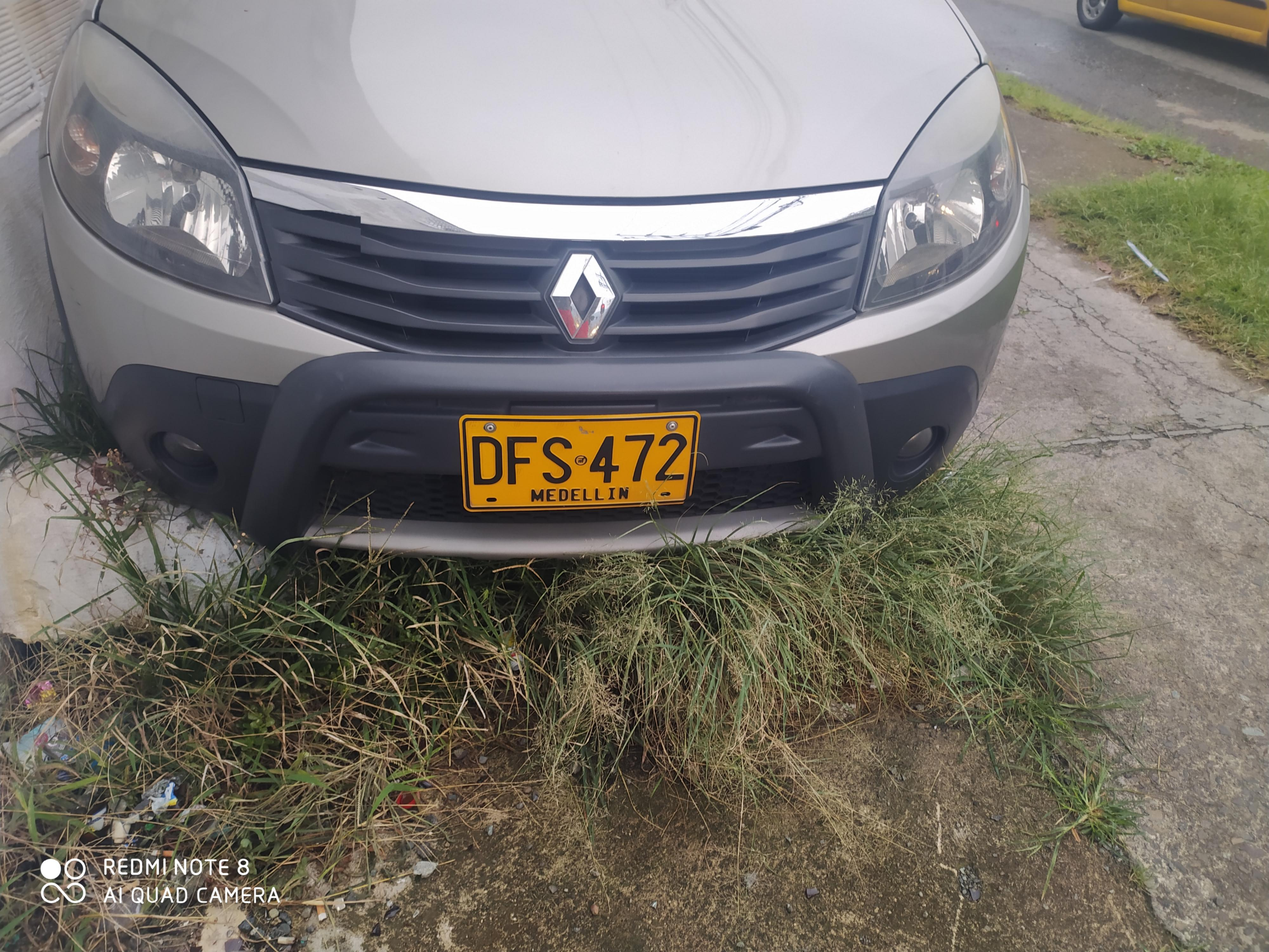placa: (449, 410, 705, 515)
